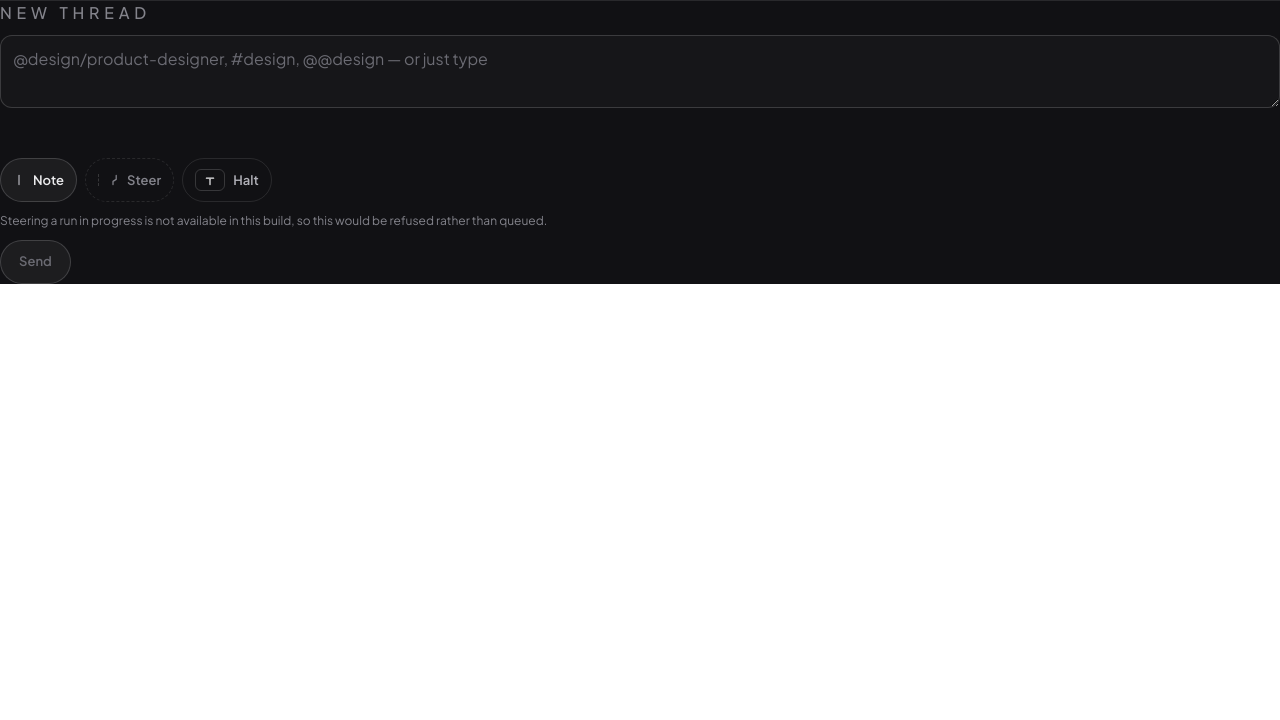
it: the fan-out confirm (BOARD · Plan §23.11 rule 7) › drops a raised confirm when the line changes underneath it
Type "@@sales ship it" into the text box.
click(640, 72); type("@@sales ship it")  # box [0, 35, 1279, 108]
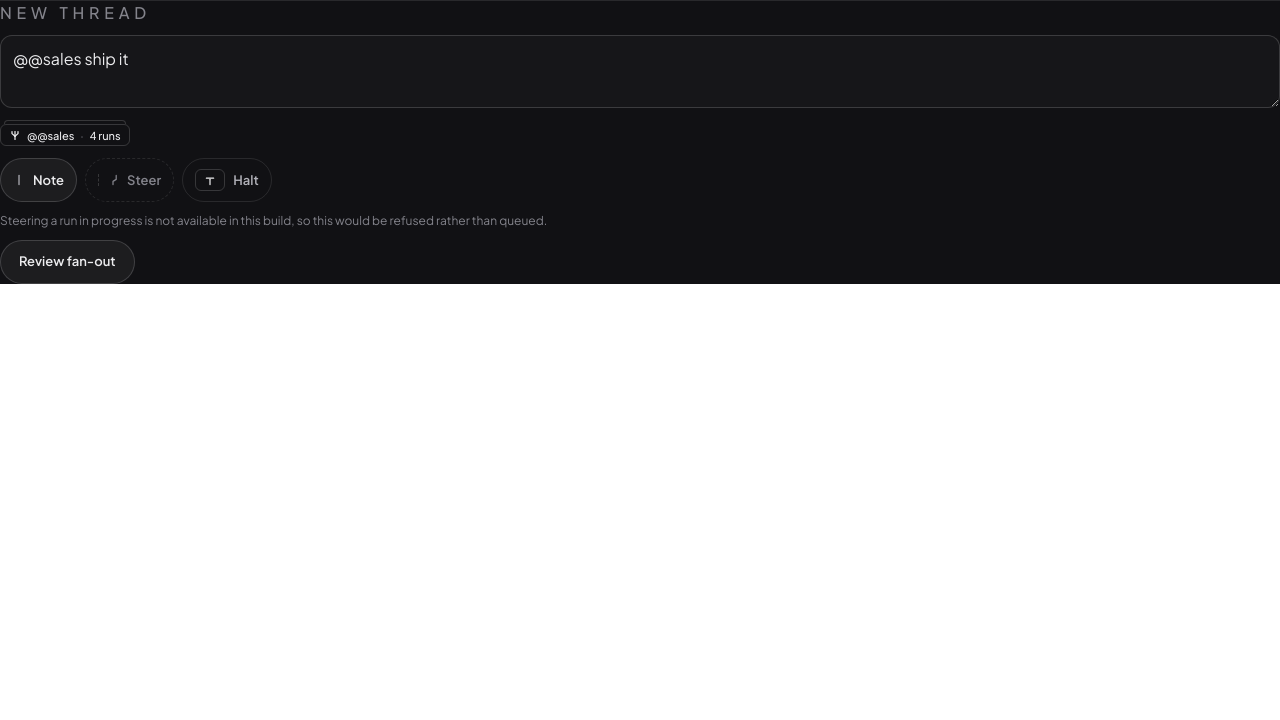
Submit the form, box [0, 0, 1279, 284]
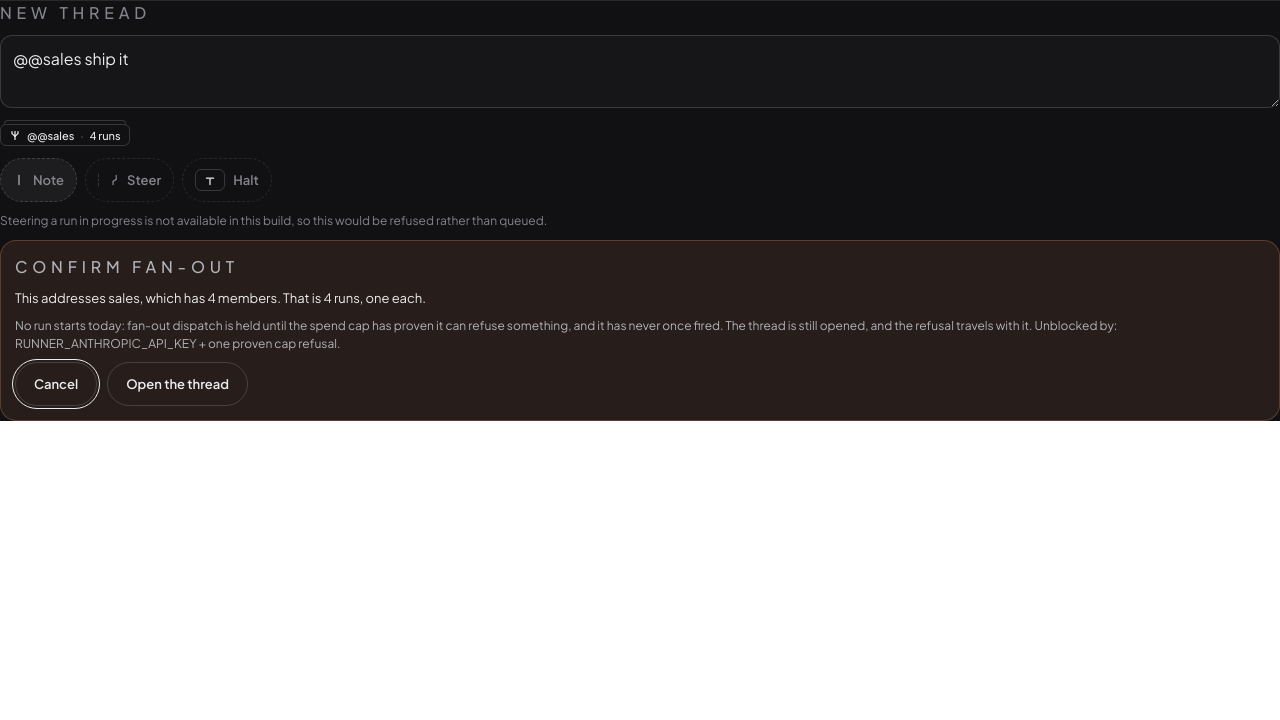
Expected: the dialog is shown, [0, 240, 1279, 421]
Replace the text in the text box with "@@finance ship it" at (640, 72), box [0, 35, 1279, 108]
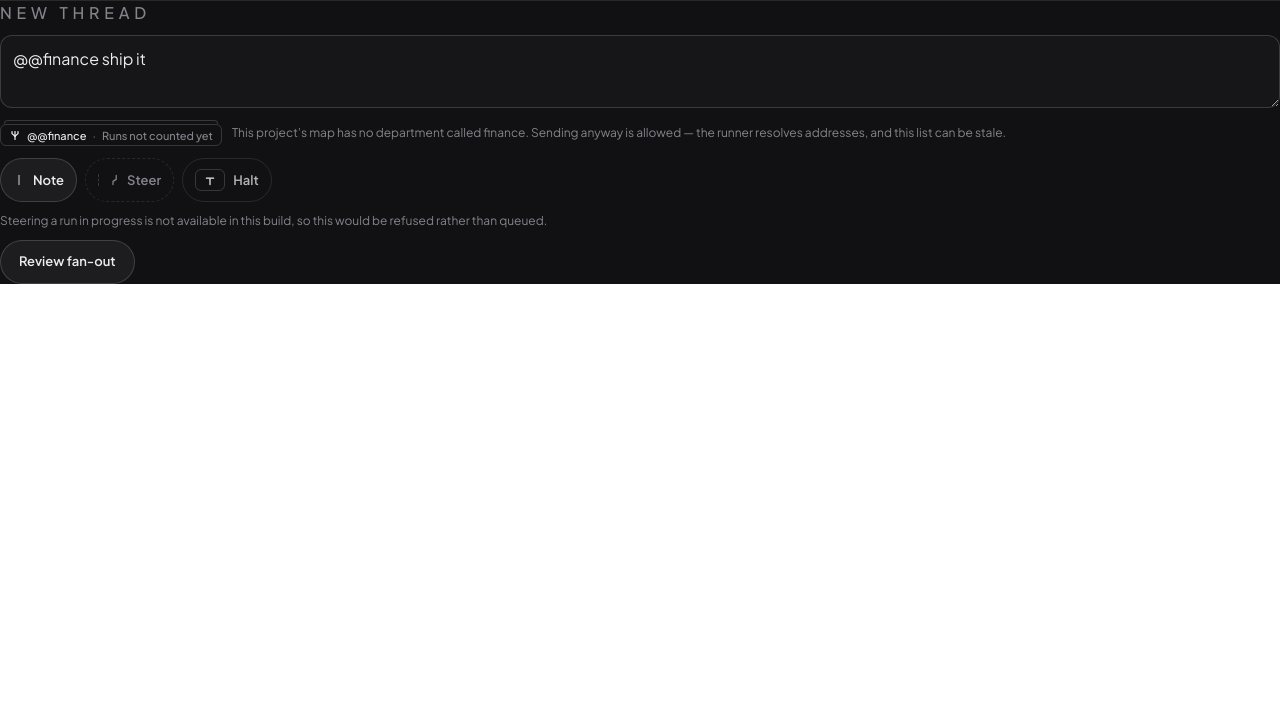
Expected: the dialog is gone
